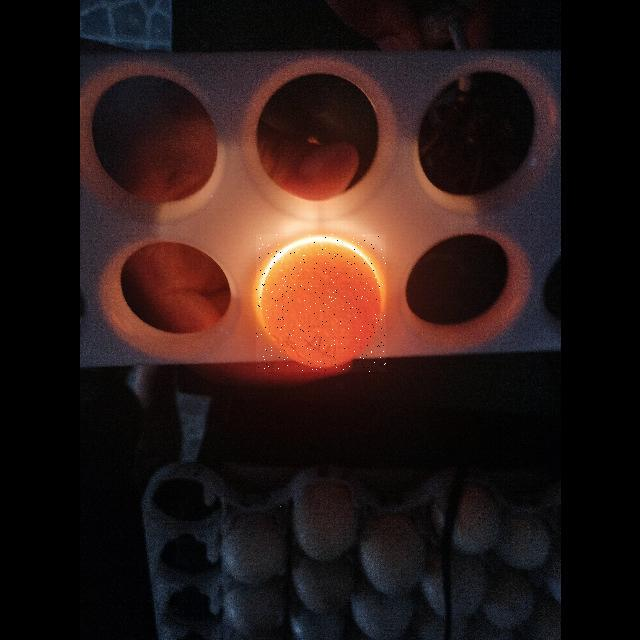Infertile: (256, 234, 386, 372)
